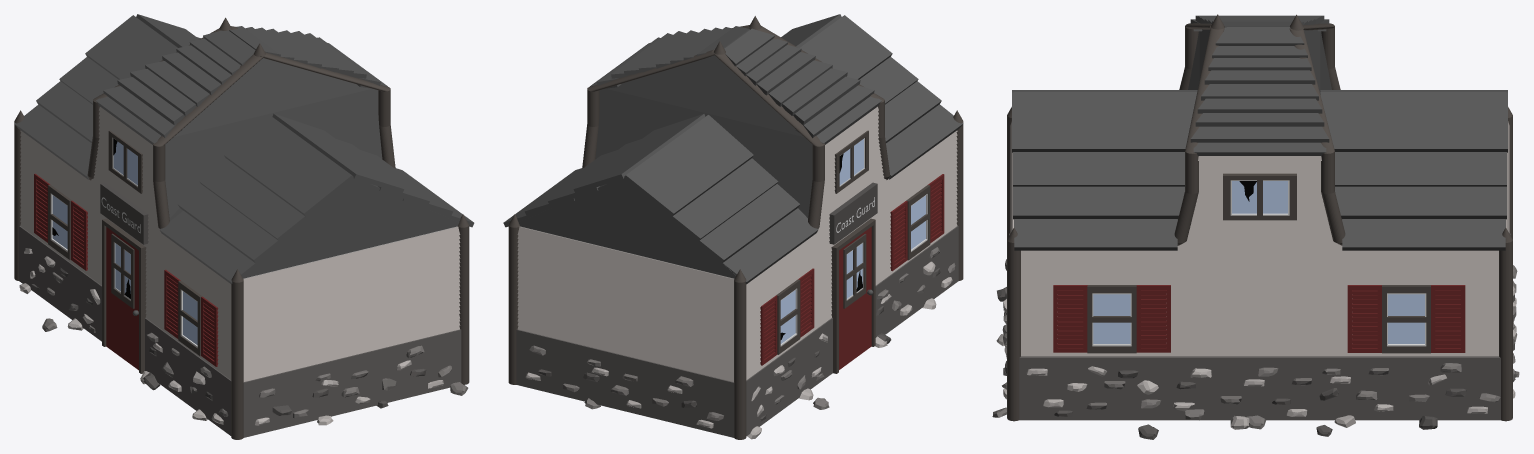
The model's file is coast gaurd old.glb.
3 views of the same model, side by side, from view 1: azimuth 30°, elevation 25°; view 2: azimuth 150°, elevation 25°; view 3: azimuth 270°, elevation 25° (orthographic). The views are drawn at different scales.
Parts seen in each view (by area): view 1: baseboard4, baseboard1, Cube.002, Cube.004, Cube.021, Cube, Cube.020, Cube.019, Cube.107, Cube.013, door, Cube.022 (+72 smaller); view 2: baseboard3, Cube.003, baseboard1, Cube.004, Cube.107, Cube, Cube.024, Cube.023, Cube.021, Cube.022, door, Cube.013 (+71 smaller); view 3: baseboard2, Cube.111, Cube.115, Cube.110, Cube.114, Cube.109, Cube.113, Cube.108, Cube.112, panel3.007, Cylinder.005, panel5.006 (+62 smaller).
Boxes of the visible parts, x1,y1,x2,y2 form: baseboard4: (243, 329, 461, 437); baseboard1: (19, 226, 231, 435); Cube.002: (169, 176, 458, 278); Cube.004: (165, 88, 382, 217); Cube.021: (224, 114, 353, 216); Cube: (174, 58, 371, 136); Cube.020: (199, 158, 327, 241); Cube.019: (177, 183, 303, 263); Cube.107: (85, 15, 177, 79); Cube.013: (160, 211, 281, 283); door: (106, 227, 138, 370); Cube.022: (14, 104, 91, 179); baseboard3: (516, 329, 734, 437); Cube.003: (519, 176, 807, 278); baseboard1: (746, 226, 958, 436); Cube.004: (595, 88, 812, 218); Cube.107: (624, 115, 753, 216); Cube: (606, 29, 803, 136); Cube.024: (650, 158, 778, 241); Cube.023: (674, 184, 800, 263); Cube.021: (800, 15, 892, 79); Cube.022: (723, 210, 818, 284); door: (839, 227, 871, 369); Cube.013: (886, 104, 963, 179); baseboard2: (1019, 356, 1500, 420); Cube.111: (1320, 92, 1507, 152); Cube.115: (1012, 92, 1196, 152); Cube.110: (1335, 152, 1506, 186); Cube.114: (1013, 152, 1184, 186); Cube.109: (1335, 186, 1506, 219); Cube.113: (1013, 186, 1184, 219); Cube.108: (1342, 219, 1505, 250); Cube.112: (1014, 219, 1177, 250); panel3.007: (1021, 262, 1498, 267); Cylinder.005: (1007, 240, 1020, 421); panel5.006: (1021, 280, 1498, 284).
Size of the model in its own units: 7.69 by 7.86 by 10.72.
11 materials, 1 textured.
